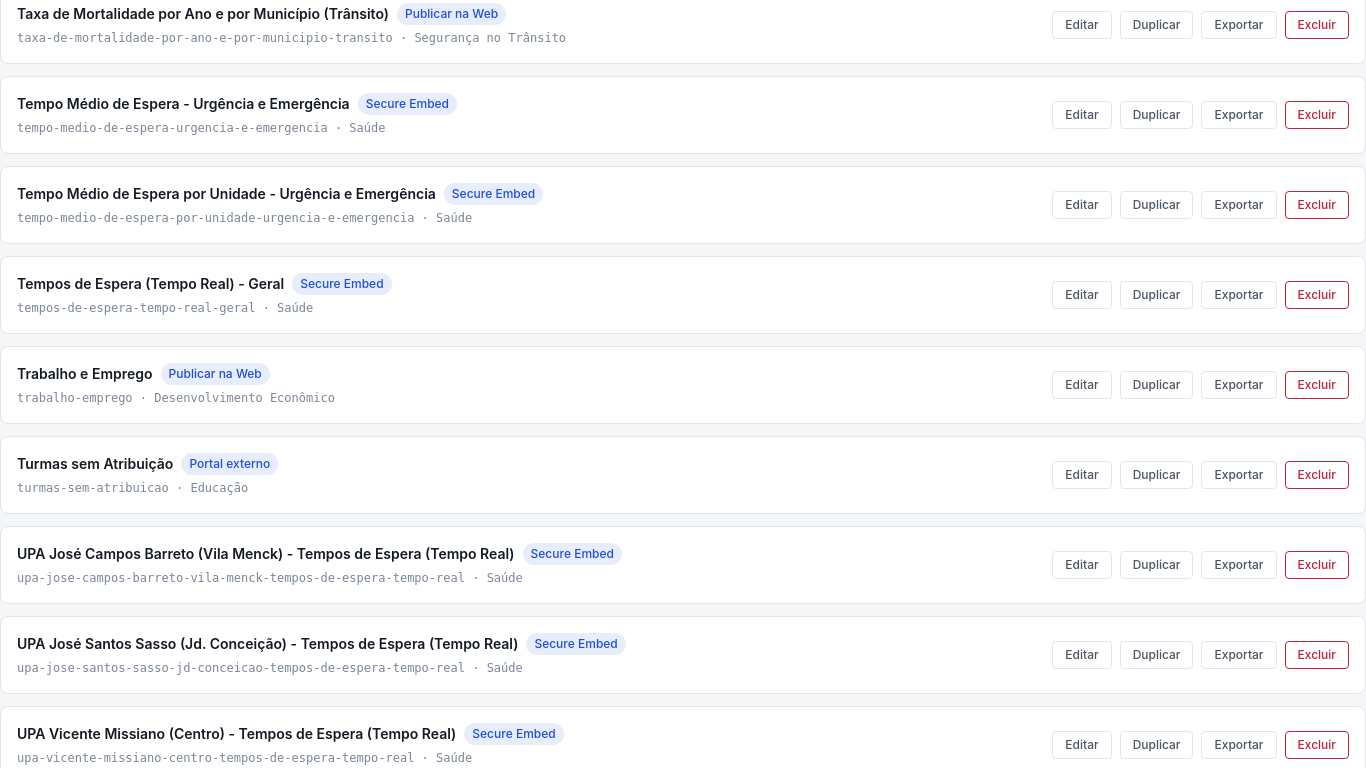
it: AdminPanelsPage › exclui um painel importado por código (sem contraparte custom)
(page scrolled)
Click the button "Excluir" in the row of "Trabalho e Emprego": (1317, 385) [1284,371,1349,399]
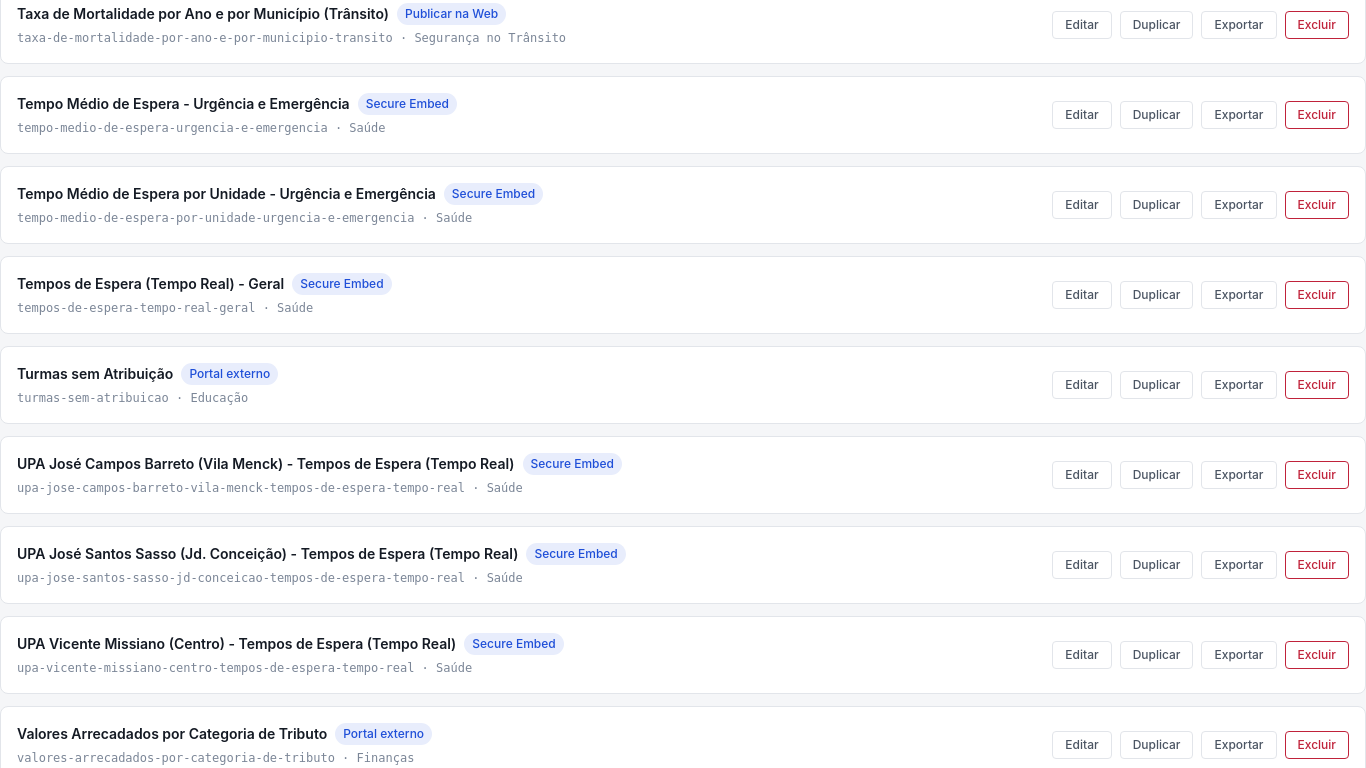
Expected: the text "Trabalho e Emprego" is gone
